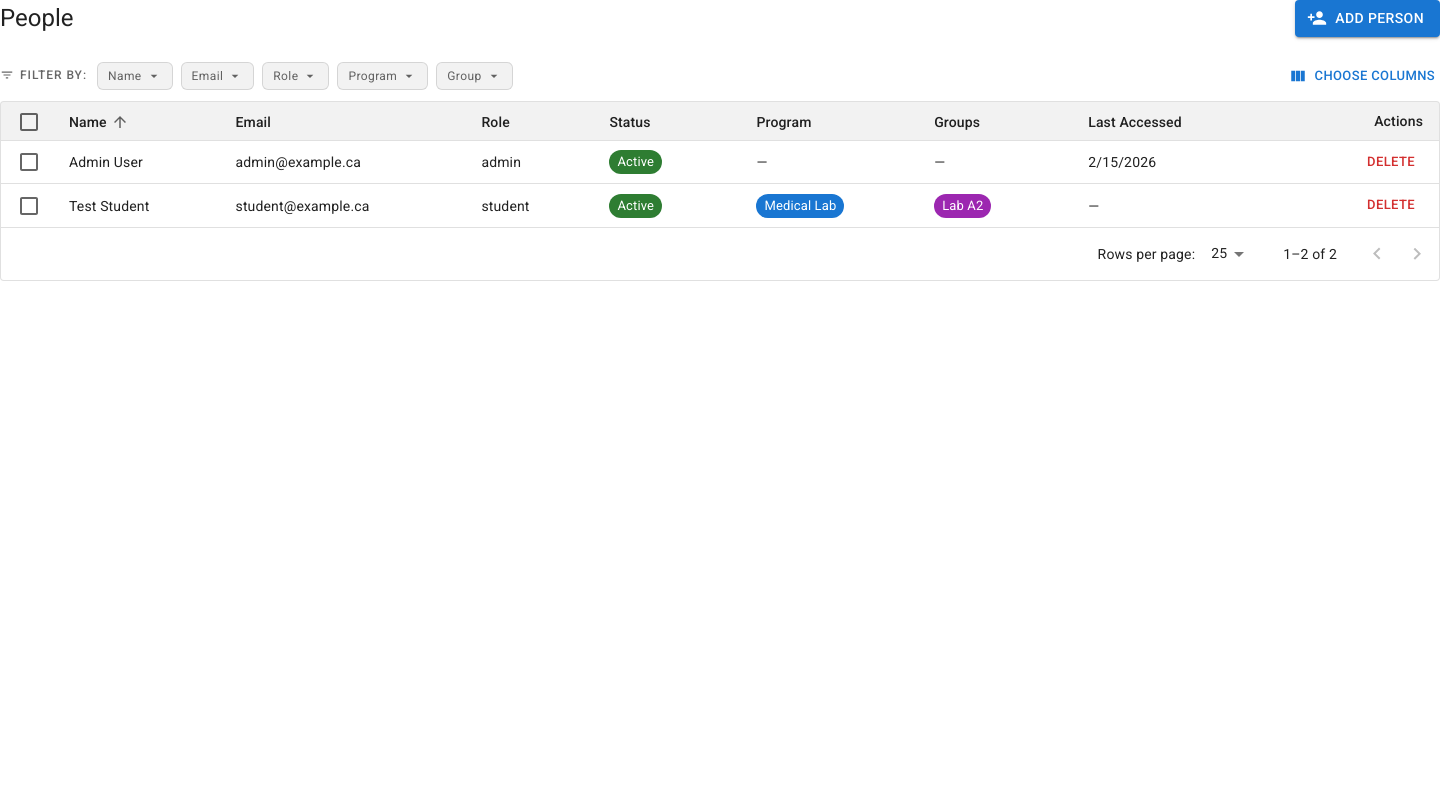
Test case: PeoplePage › opens edit modal when a row is clicked
Click the text "Admin User" at (106, 162), box [69,152,143,172]
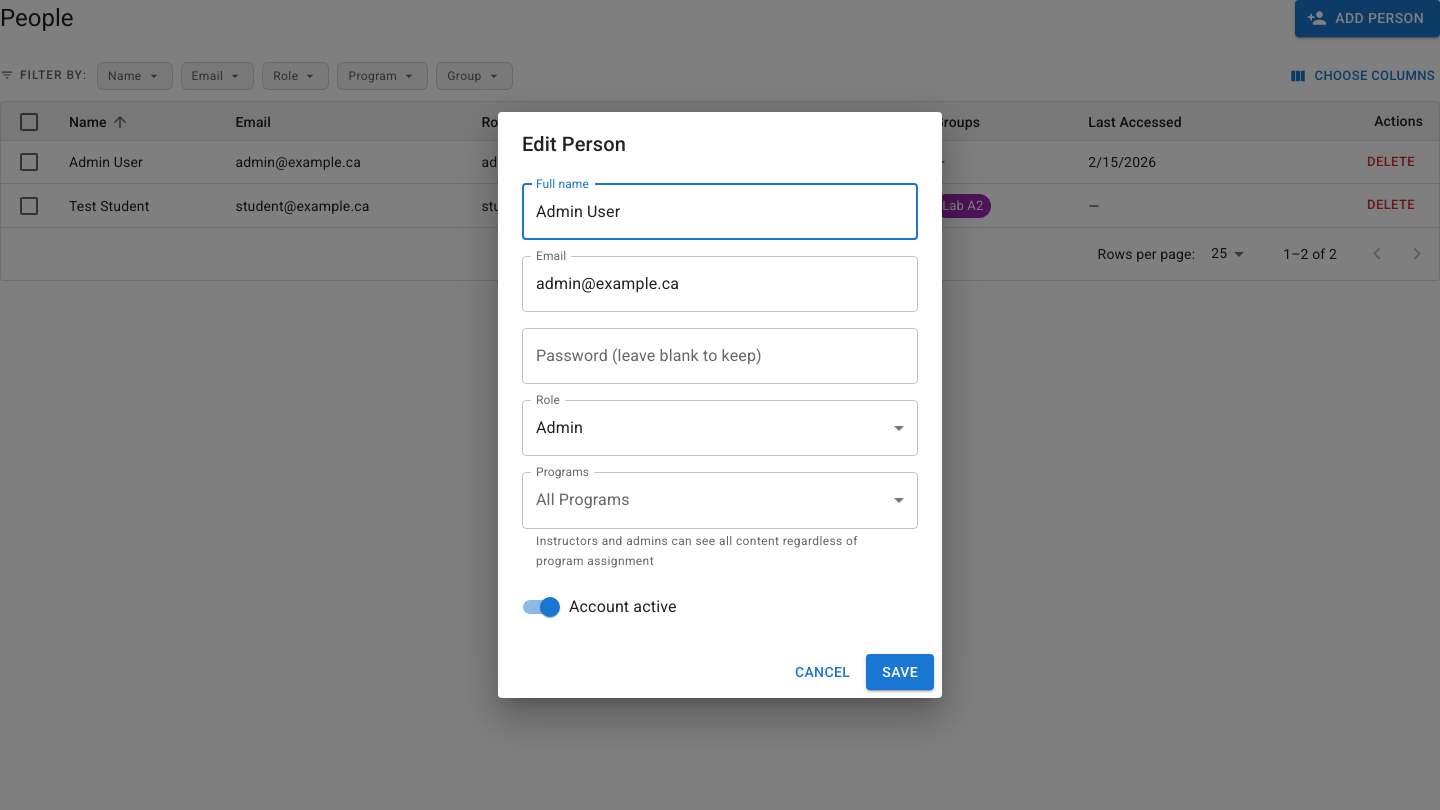
Expected: the heading "Edit Person" is shown, [522,132,626,156]
Expected: the field showing "Admin User" is shown, [522,184,918,240]
